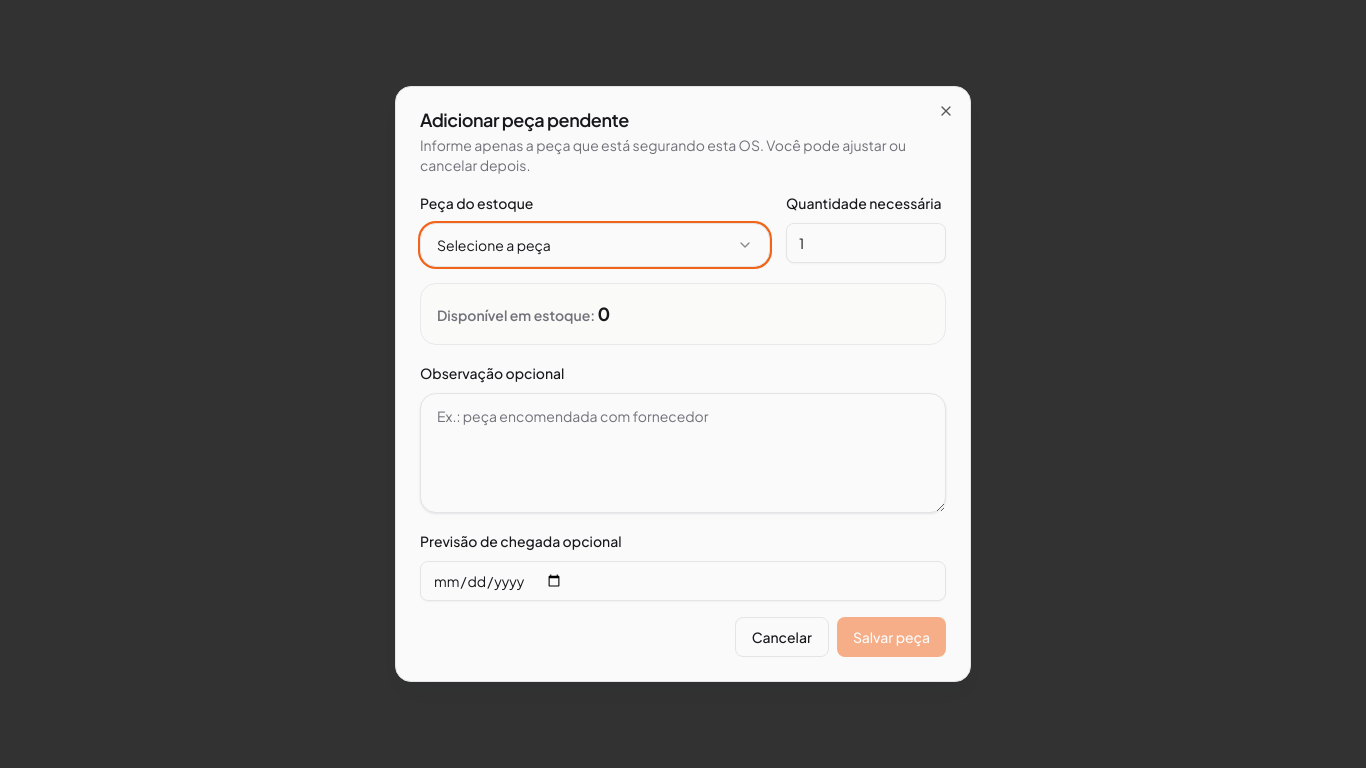
Test: PendingPartDialog › avisa quando a peca selecionada nao tem estoque disponivel
Step 1. Click the dropdown "Selecione a peça" → (494, 245), box x1=420 y1=223 x2=770 y2=267
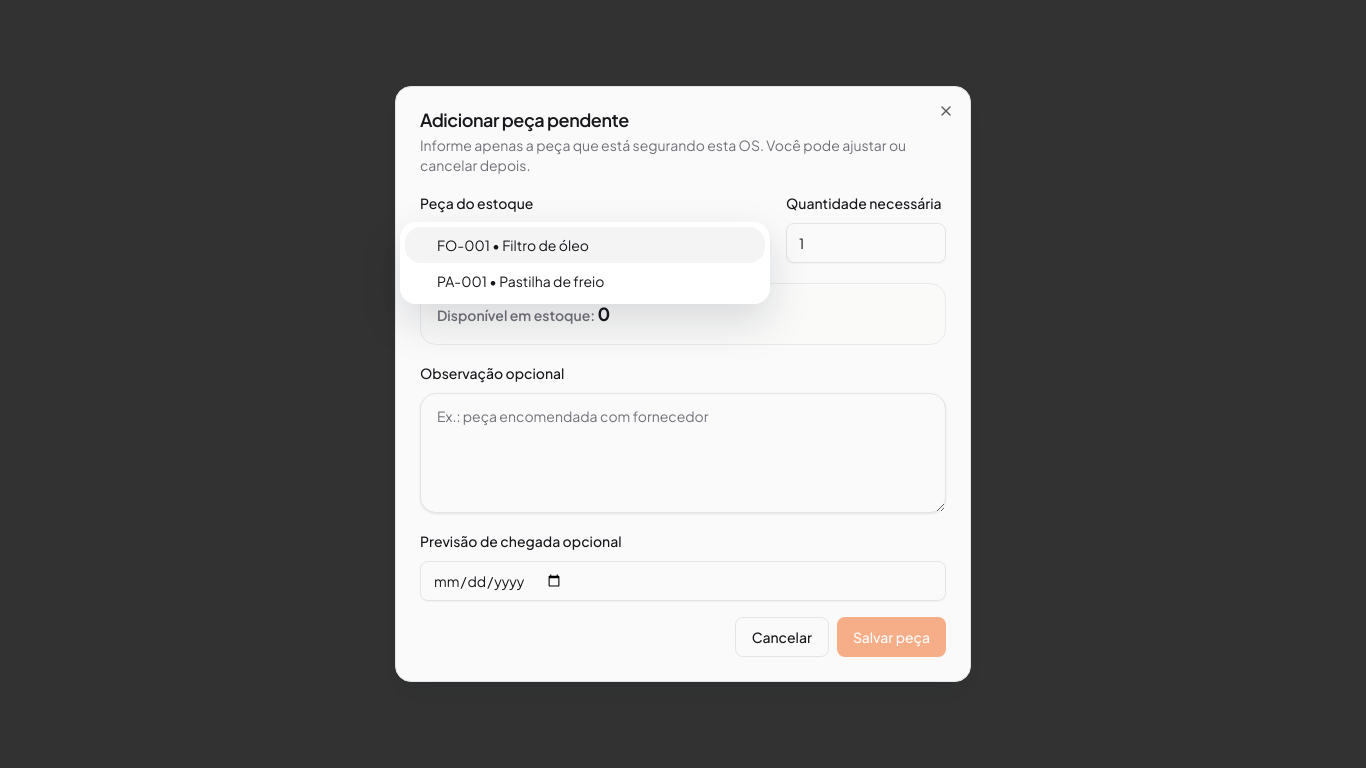
Step 2. Click the option "PA-001 • Pastilha de freio" → (521, 281), box x1=437 y1=272 x2=604 y2=290
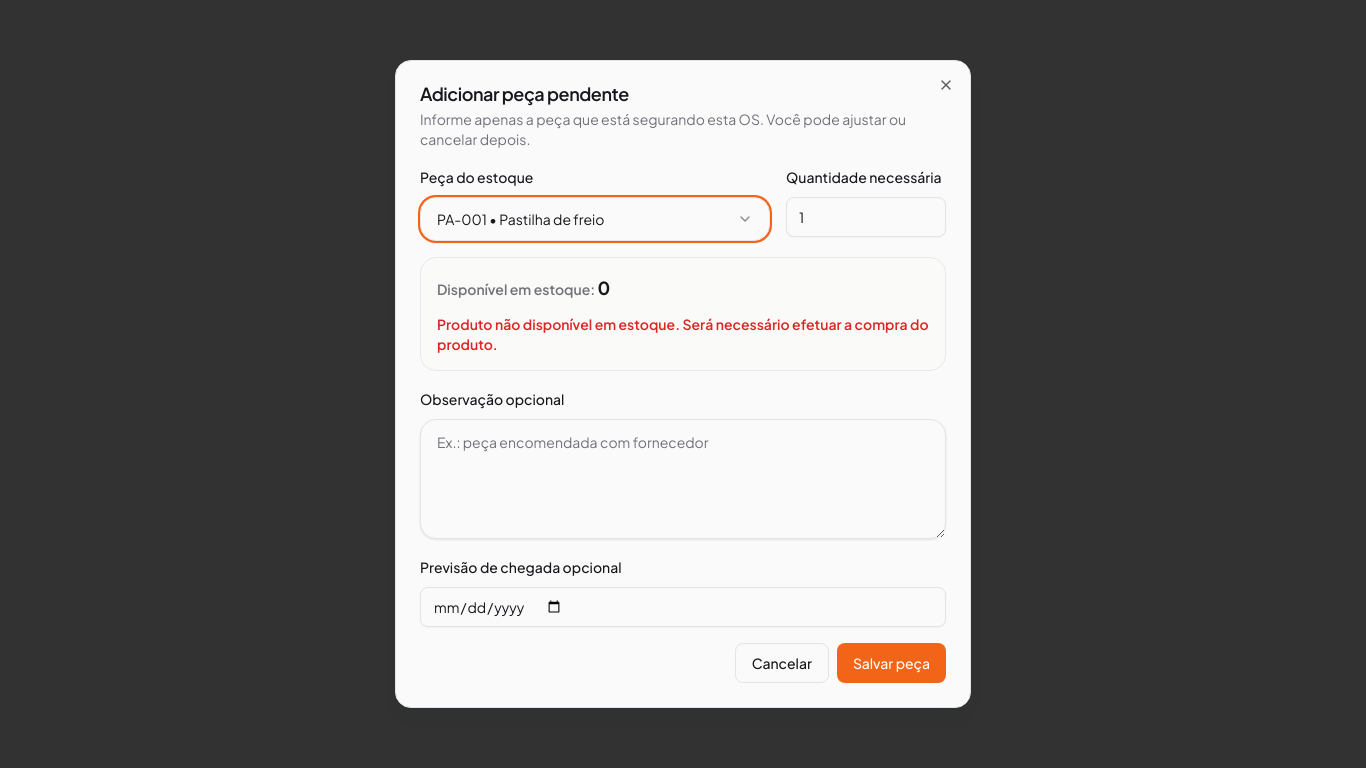
Expected: the text "Produto não disponível em estoque. Será necessário efetuar a compra do produto." is shown, x1=437 y1=314 x2=929 y2=354
